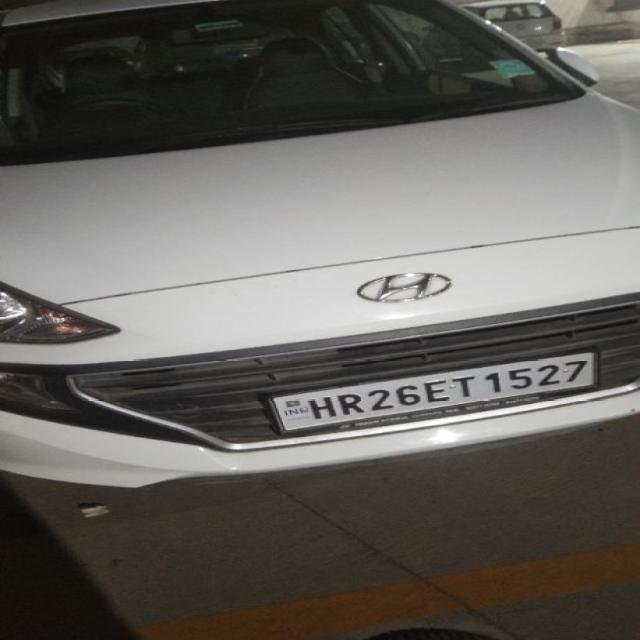license_plate: (257, 348, 601, 436)
